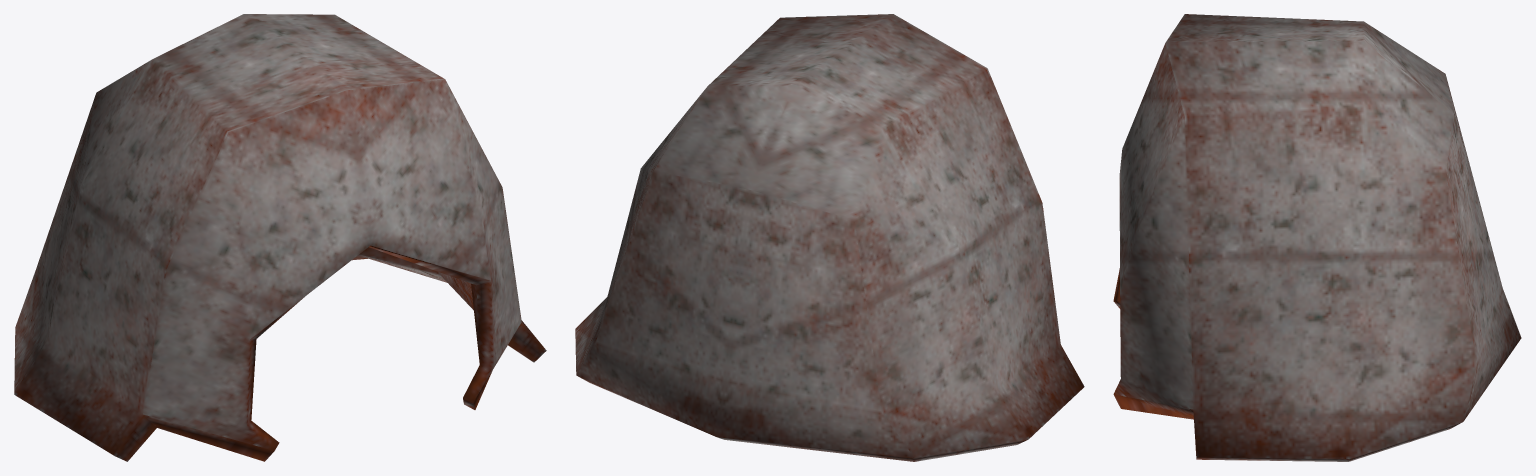
Rendered from medium_helmet.glb.
The picture shows the model from 3 angles, left to right: view 1: azimuth 30°, elevation 25°; view 2: azimuth 150°, elevation 25°; view 3: azimuth 270°, elevation 25°; orthographic projection. The views are drawn at different scales.
Visible parts, largest first — view 1: helmet skeleton; view 2: helmet skeleton; view 3: helmet skeleton.
Boxes of the visible parts, box(x1,y1,x2,y2) form: helmet skeleton: box(14, 14, 546, 461); helmet skeleton: box(575, 14, 1084, 461); helmet skeleton: box(1113, 14, 1521, 461).
Bounding box in the file's own units: 0.312 × 0.2105 × 0.2418.
Materials: 1 (1 with a texture image).
